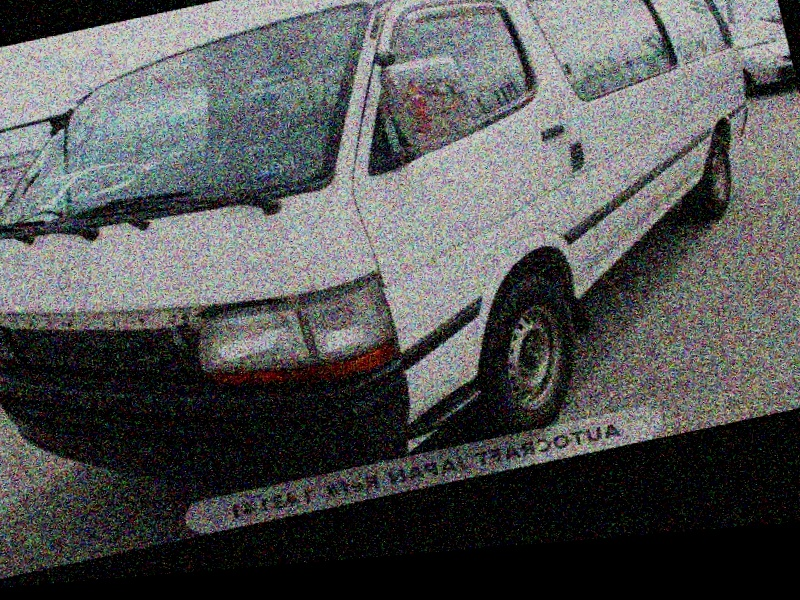van: (0, 0, 800, 532)
